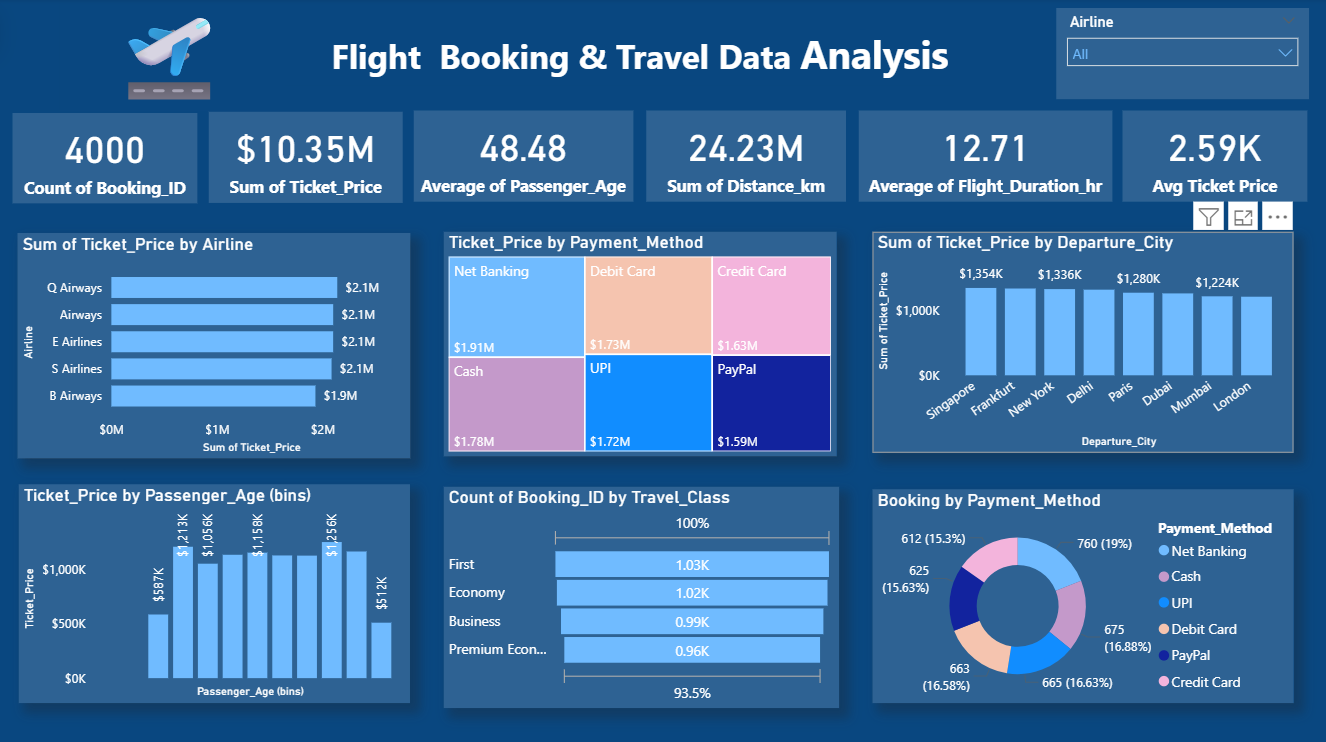

What the dashboard file says about the page in this screenshot:
{"tool":"powerbi","page":{"name":"Page 1","canvas":[1280,720],"ordinal":0},"visuals":[{"type":"card","fields":{"Values":["CountNonNull(flight_bookings dataset.Booking_ID)"]},"box":[12.1,111,178.6,86.9],"z":0},{"type":"card","fields":{"Values":["Sum(flight_bookings dataset.Ticket_Price)"]},"box":[201.8,109.5,187.4,87.9],"z":1000},{"type":"card","fields":{"Values":["Avg(flight_bookings dataset.Passenger_Age)"]},"box":[399.3,108.1,211.9,87.9],"z":2000},{"type":"card","fields":{"Values":["Sum(flight_bookings dataset.Distance_km)"]},"box":[624.1,108.1,193.2,87.9],"z":3000},{"type":"card","fields":{"Values":["Avg(flight_bookings dataset.Flight_Duration_hr)"]},"box":[828.8,108.1,245,87.9],"z":4000},{"type":"card","fields":{"Values":["flight_bookings dataset.Avg Ticket Price"]},"box":[1084,108.1,178.7,87.9],"z":5000},{"type":"clusteredBarChart","fields":{"Y":["Sum(flight_bookings dataset.Ticket_Price)"],"Category":["flight_bookings dataset.Airline"]},"box":[17.3,226.3,379.1,217.7],"z":6000},{"type":"columnChart","fields":{"Category":["flight_bookings dataset.Departure_City"],"Y":["Sum(flight_bookings dataset.Ticket_Price)"]},"box":[842.1,225.6,406.6,213.5],"z":7000},{"type":"funnel","fields":{"Category":["flight_bookings dataset.Travel_Class"],"Y":["CountNonNull(flight_bookings dataset.Booking_ID)"]},"box":[428.1,471.4,382,213.3],"z":8000},{"type":"treemap","fields":{"Group":["flight_bookings dataset.Payment_Method"],"Values":["Sum(flight_bookings dataset.Ticket_Price)"]},"box":[428.3,225.6,378.8,217.2],"z":9000},{"type":"donutChart","fields":{"Category":["flight_bookings dataset.Payment_Method"],"Y":["CountNonNull(flight_bookings dataset.Booking_ID)"]},"box":[842.1,474.1,406.6,206.3],"z":10000},{"type":"columnChart","fields":{"Y":["Sum(flight_bookings dataset.Ticket_Price)"],"Category":["flight_bookings dataset.Passenger_Age (bins)"]},"box":[18.1,469.3,377.6,211.1],"z":11000},{"type":"textbox","box":[275.1,24.1,645.4,60.3],"z":12000},{"type":"slicer","fields":{"Values":["flight_bookings dataset.Airline"]},"box":[1019.1,10.1,243.6,87.9],"z":13000},{"type":"textbox","title":"🛫","box":[53.1,0,222,108.6],"z":14000}]}

Visuals, with their boxes in screenshot pixels (x1, y1, x2, y2), scaled from the page's 1280x720 canvas onto the 1326x742 screenshot:
card - CountNonNull(flight_bookings dataset.Booking_ID): bbox(13, 114, 198, 204)
card - Sum(flight_bookings dataset.Ticket_Price): bbox(209, 113, 403, 203)
card - Avg(flight_bookings dataset.Passenger_Age): bbox(414, 111, 633, 202)
card - Sum(flight_bookings dataset.Distance_km): bbox(647, 111, 847, 202)
card - Avg(flight_bookings dataset.Flight_Duration_hr): bbox(859, 111, 1112, 202)
card - flight_bookings dataset.Avg Ticket Price: bbox(1123, 111, 1308, 202)
clusteredBarChart - Sum(flight_bookings dataset.Ticket_Price) x flight_bookings dataset.Airline: bbox(18, 233, 411, 458)
columnChart - flight_bookings dataset.Departure_City x Sum(flight_bookings dataset.Ticket_Price): bbox(872, 232, 1294, 453)
funnel - flight_bookings dataset.Travel_Class x CountNonNull(flight_bookings dataset.Booking_ID): bbox(443, 486, 839, 706)
treemap - flight_bookings dataset.Payment_Method x Sum(flight_bookings dataset.Ticket_Price): bbox(444, 232, 836, 456)
donutChart - flight_bookings dataset.Payment_Method x CountNonNull(flight_bookings dataset.Booking_ID): bbox(872, 489, 1294, 701)
columnChart - Sum(flight_bookings dataset.Ticket_Price) x flight_bookings dataset.Passenger_Age (bins): bbox(19, 484, 410, 701)
textbox: bbox(285, 25, 954, 87)
slicer - flight_bookings dataset.Airline: bbox(1056, 10, 1308, 101)
"🛫" textbox: bbox(55, 0, 285, 112)
